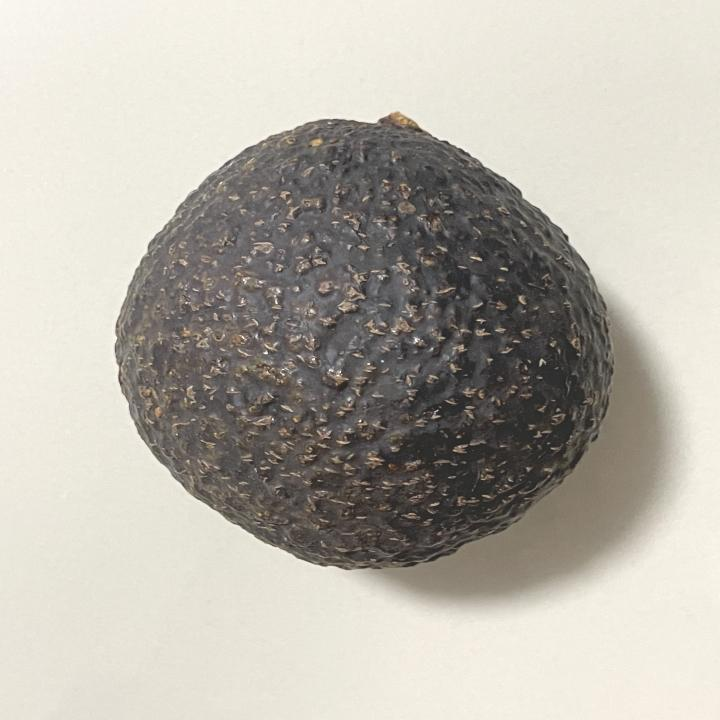Level2: (107, 107, 620, 575)
